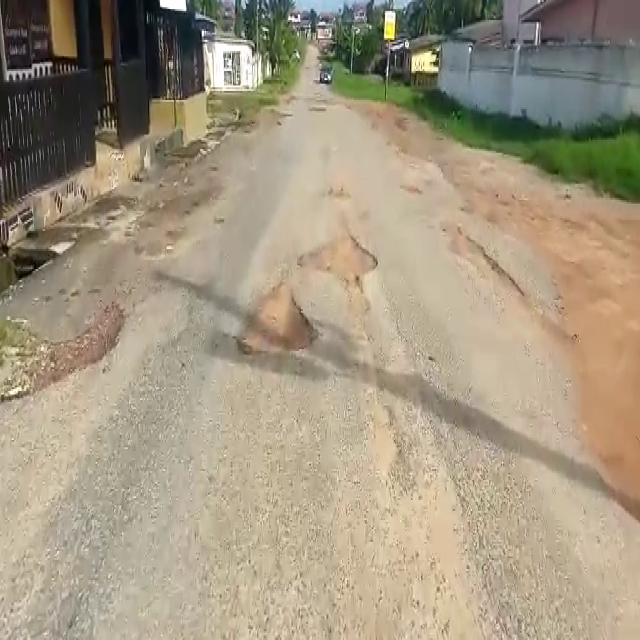Pothole: (0, 285, 133, 413), (224, 285, 327, 368), (298, 232, 381, 291)
